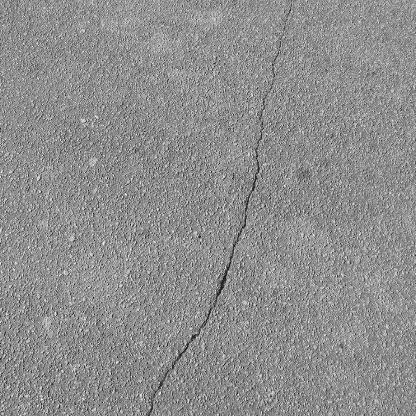Cracks: (140, 0, 300, 416)
